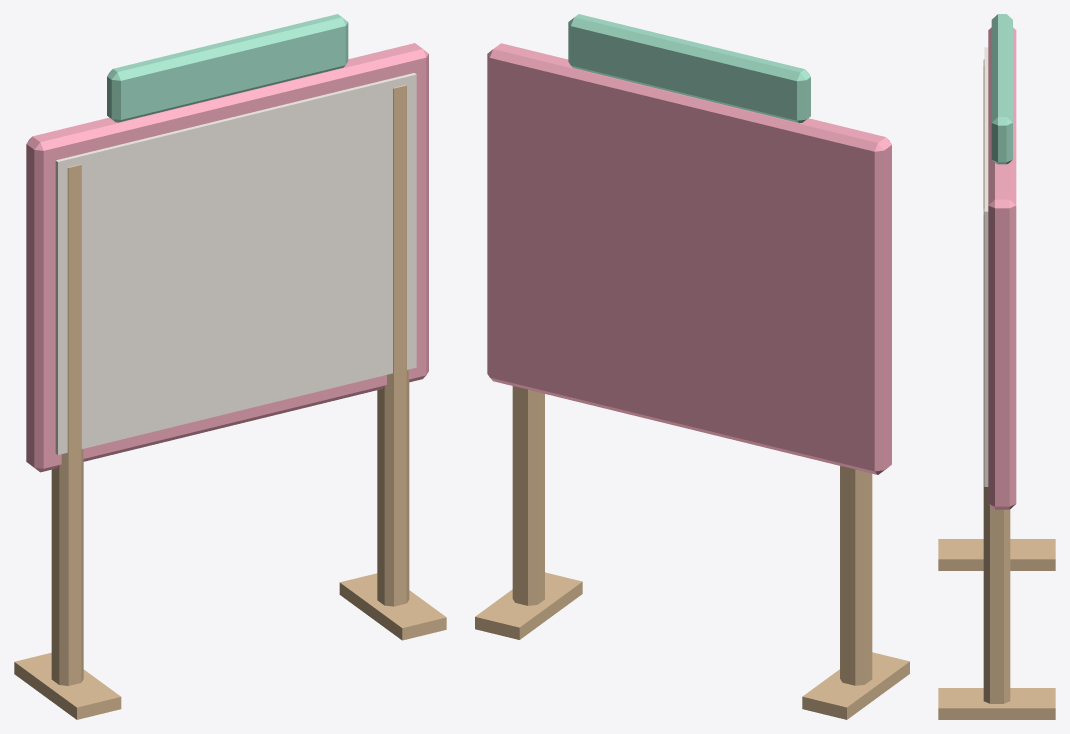
The model's file is CleanACat_Prop_ChanceBoard.fbx.
3 renders of one model, left to right at view 1: azimuth 30°, elevation 25°; view 2: azimuth 150°, elevation 25°; view 3: azimuth 270°, elevation 25°, orthographic. The views are drawn at different scales.
Parts seen in each view (by area): view 1: CleanACat_Prop_ChanceBoard_Screen, CleanACat_Prop_ChanceBoard; view 2: CleanACat_Prop_ChanceBoard; view 3: CleanACat_Prop_ChanceBoard, CleanACat_Prop_ChanceBoard_Screen.
Part boxes in pixels (x1,y1,x2,y2): CleanACat_Prop_ChanceBoard_Screen: (55,73,416,454); CleanACat_Prop_ChanceBoard: (14,14,446,719); CleanACat_Prop_ChanceBoard: (475,14,909,719); CleanACat_Prop_ChanceBoard: (938,14,1055,719); CleanACat_Prop_ChanceBoard_Screen: (984,47,988,486).
Bounding box in the file's own units: 4 × 5.88 × 1.1.
1 material, 1 textured.
